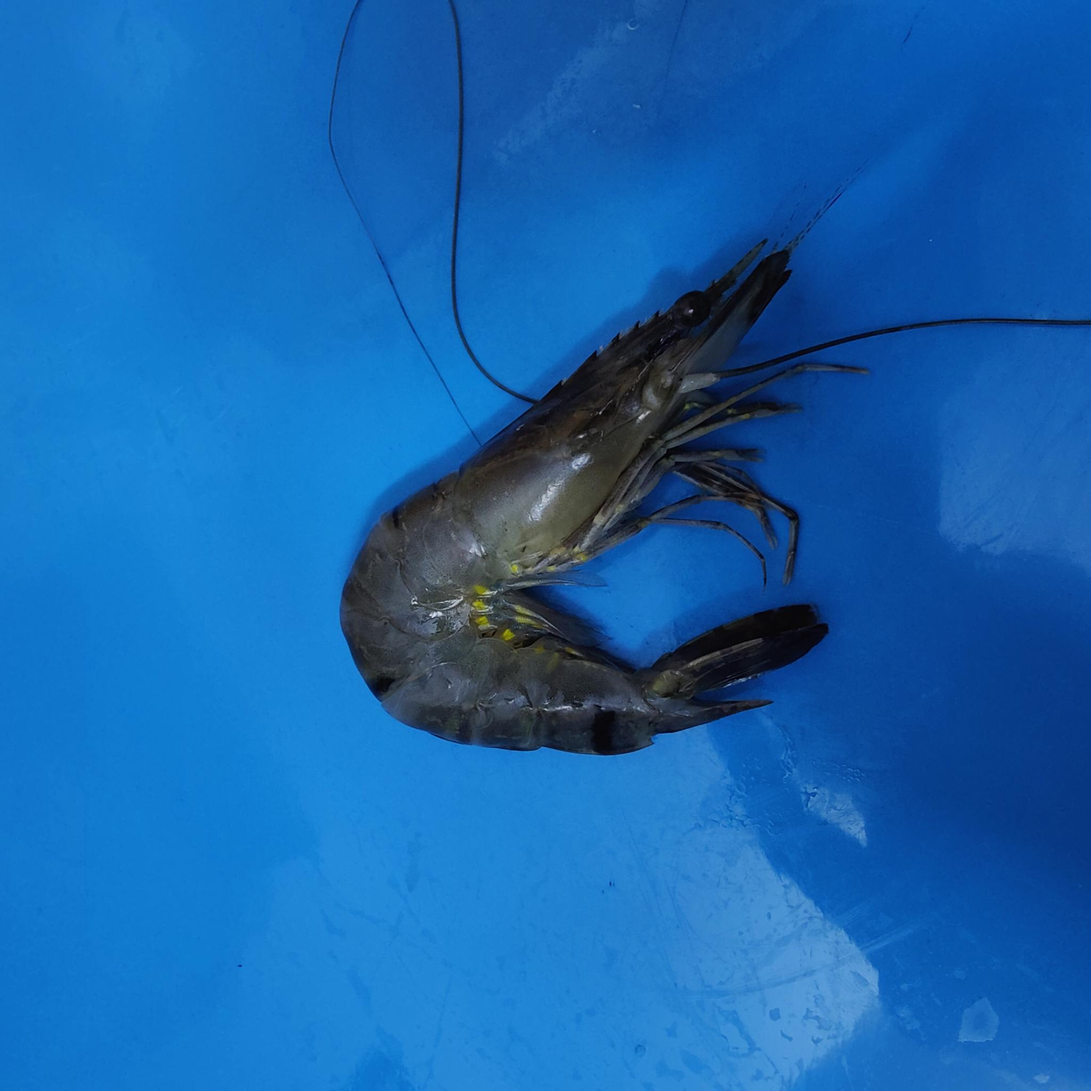whitespot: (363, 409, 601, 609)
